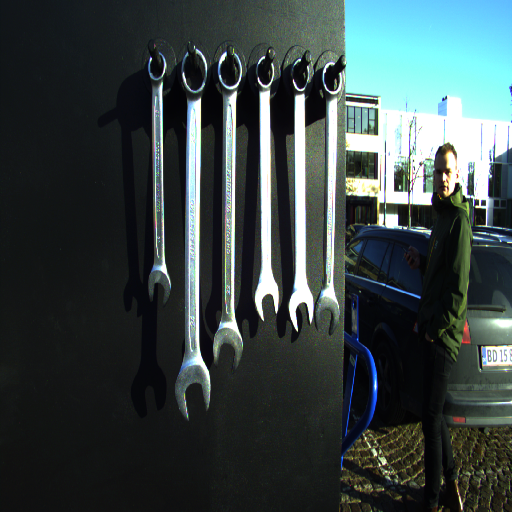bottom: (173, 367, 211, 422), (211, 327, 245, 370), (288, 288, 314, 335), (314, 291, 340, 336), (144, 269, 174, 307), (253, 281, 280, 320)
top: (179, 47, 210, 100), (215, 50, 244, 95), (320, 58, 345, 100), (288, 56, 313, 97), (254, 53, 277, 95), (145, 50, 170, 82)
